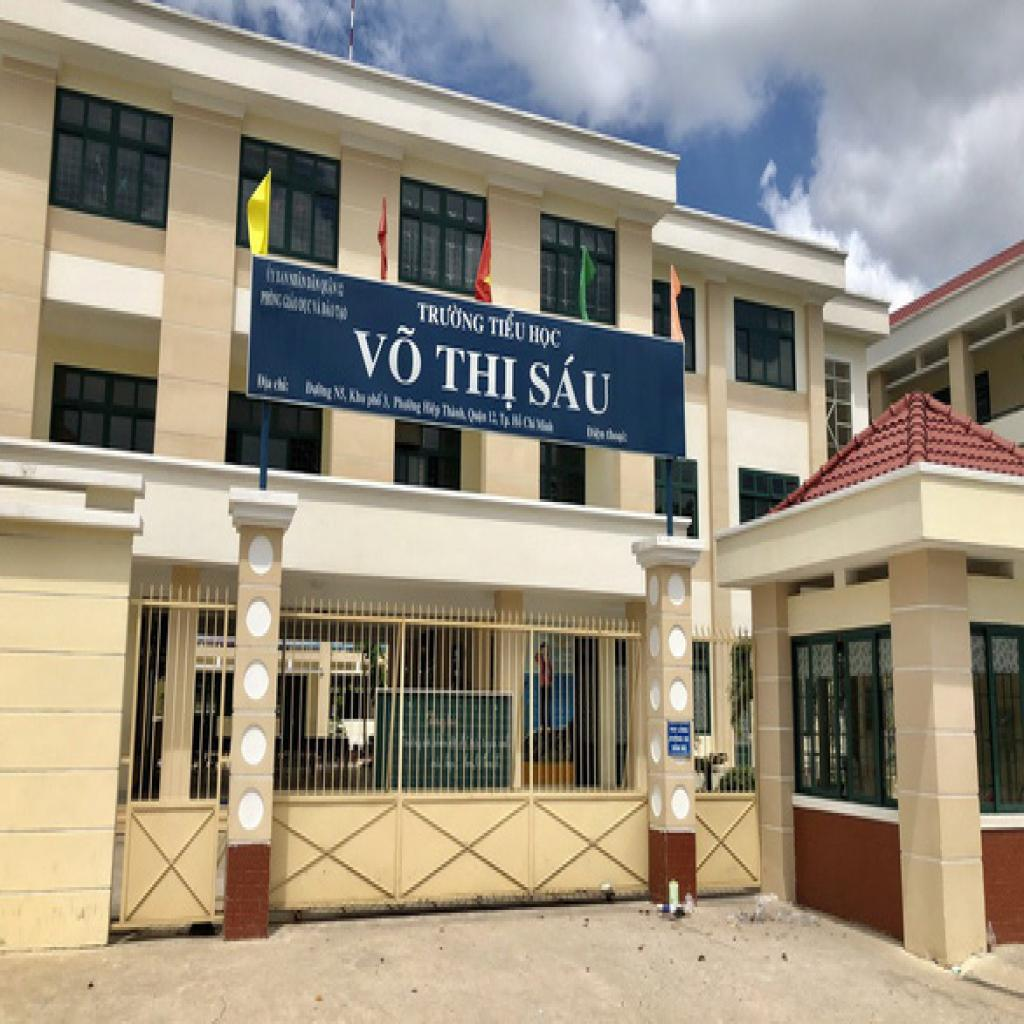text: (435, 342, 523, 414), (528, 351, 615, 422), (353, 314, 425, 394), (416, 296, 486, 340), (498, 411, 556, 439), (488, 308, 528, 345), (528, 322, 562, 354)
